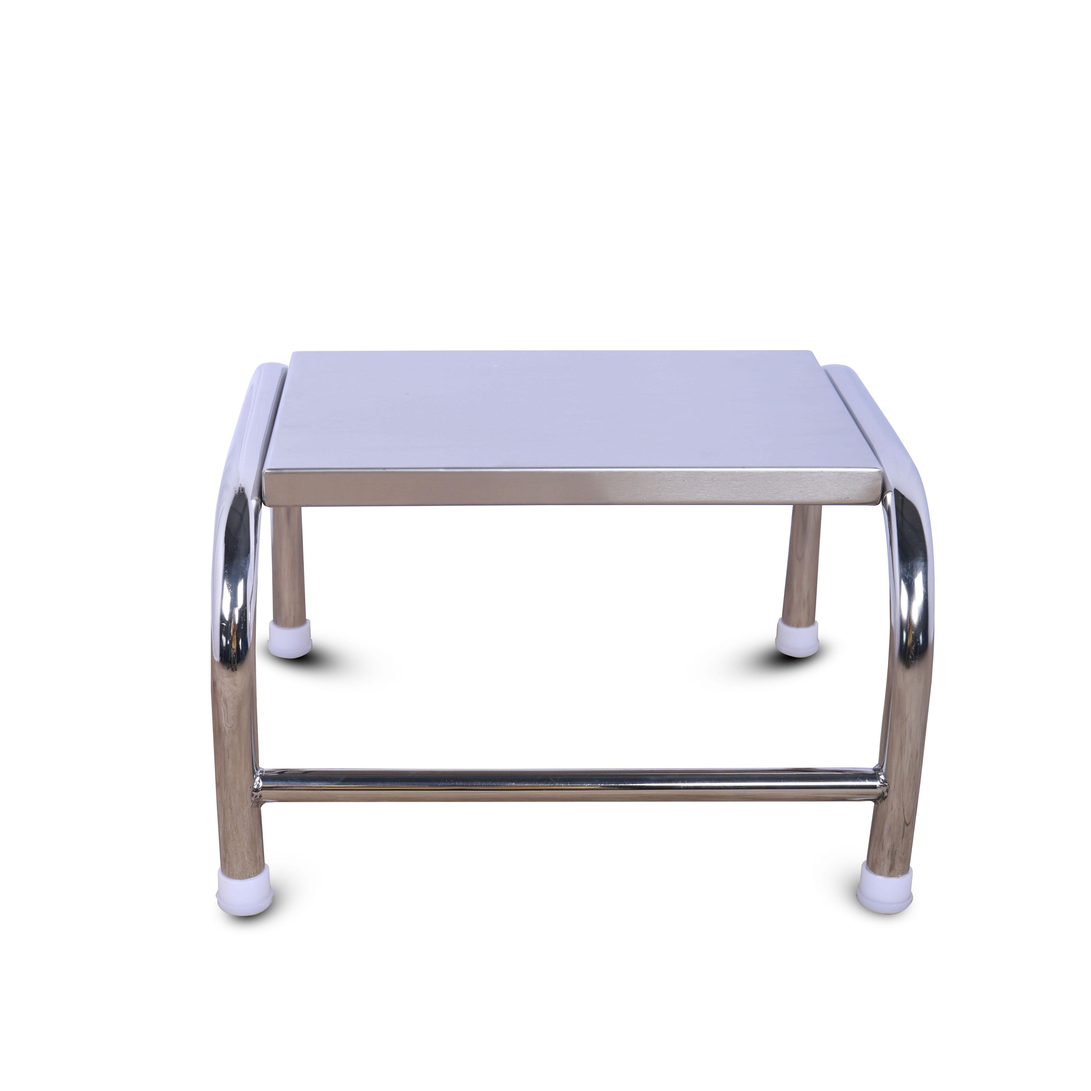stool: (190, 326, 946, 946)
